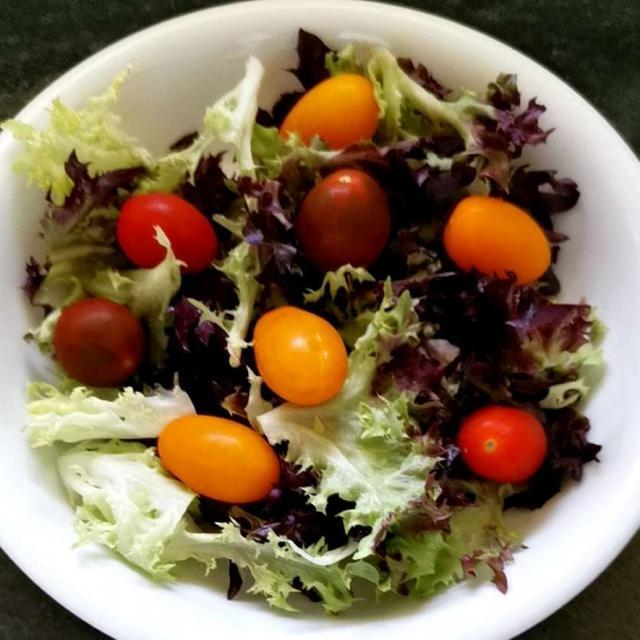salad: (14, 64, 628, 595)
tomato: (39, 77, 559, 517)
